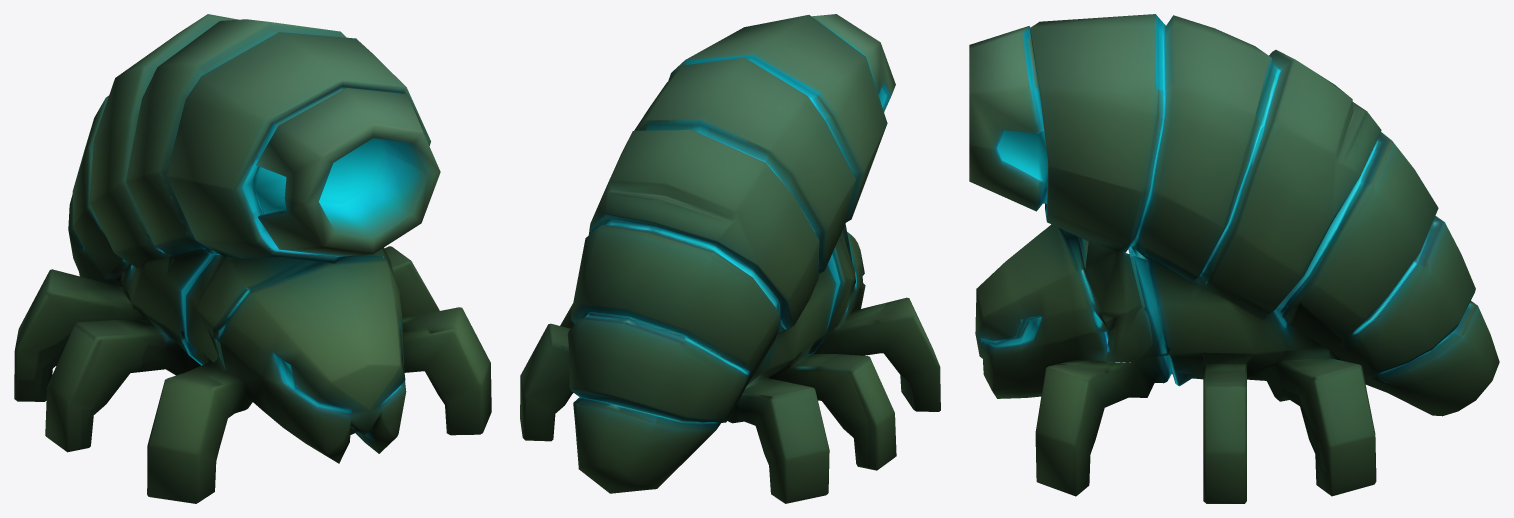
The model's file is monster_acid.glb.
3 renders of one model, left to right at view 1: azimuth 30°, elevation 25°; view 2: azimuth 150°, elevation 25°; view 3: azimuth 270°, elevation 25°, orthographic. The views are drawn at different scales.
Visible parts, largest first — view 1: mesh_rep_0_ori_repair_quad; view 2: mesh_rep_0_ori_repair_quad; view 3: mesh_rep_0_ori_repair_quad.
Boxes of the visible parts, <box> form: mesh_rep_0_ori_repair_quad: <box>14,14,491,503</box>; mesh_rep_0_ori_repair_quad: <box>520,14,940,503</box>; mesh_rep_0_ori_repair_quad: <box>969,14,1499,503</box>.
Bounding box in the file's own units: 76.91 × 77.65 × 95.11.
1 material, 1 textured.
